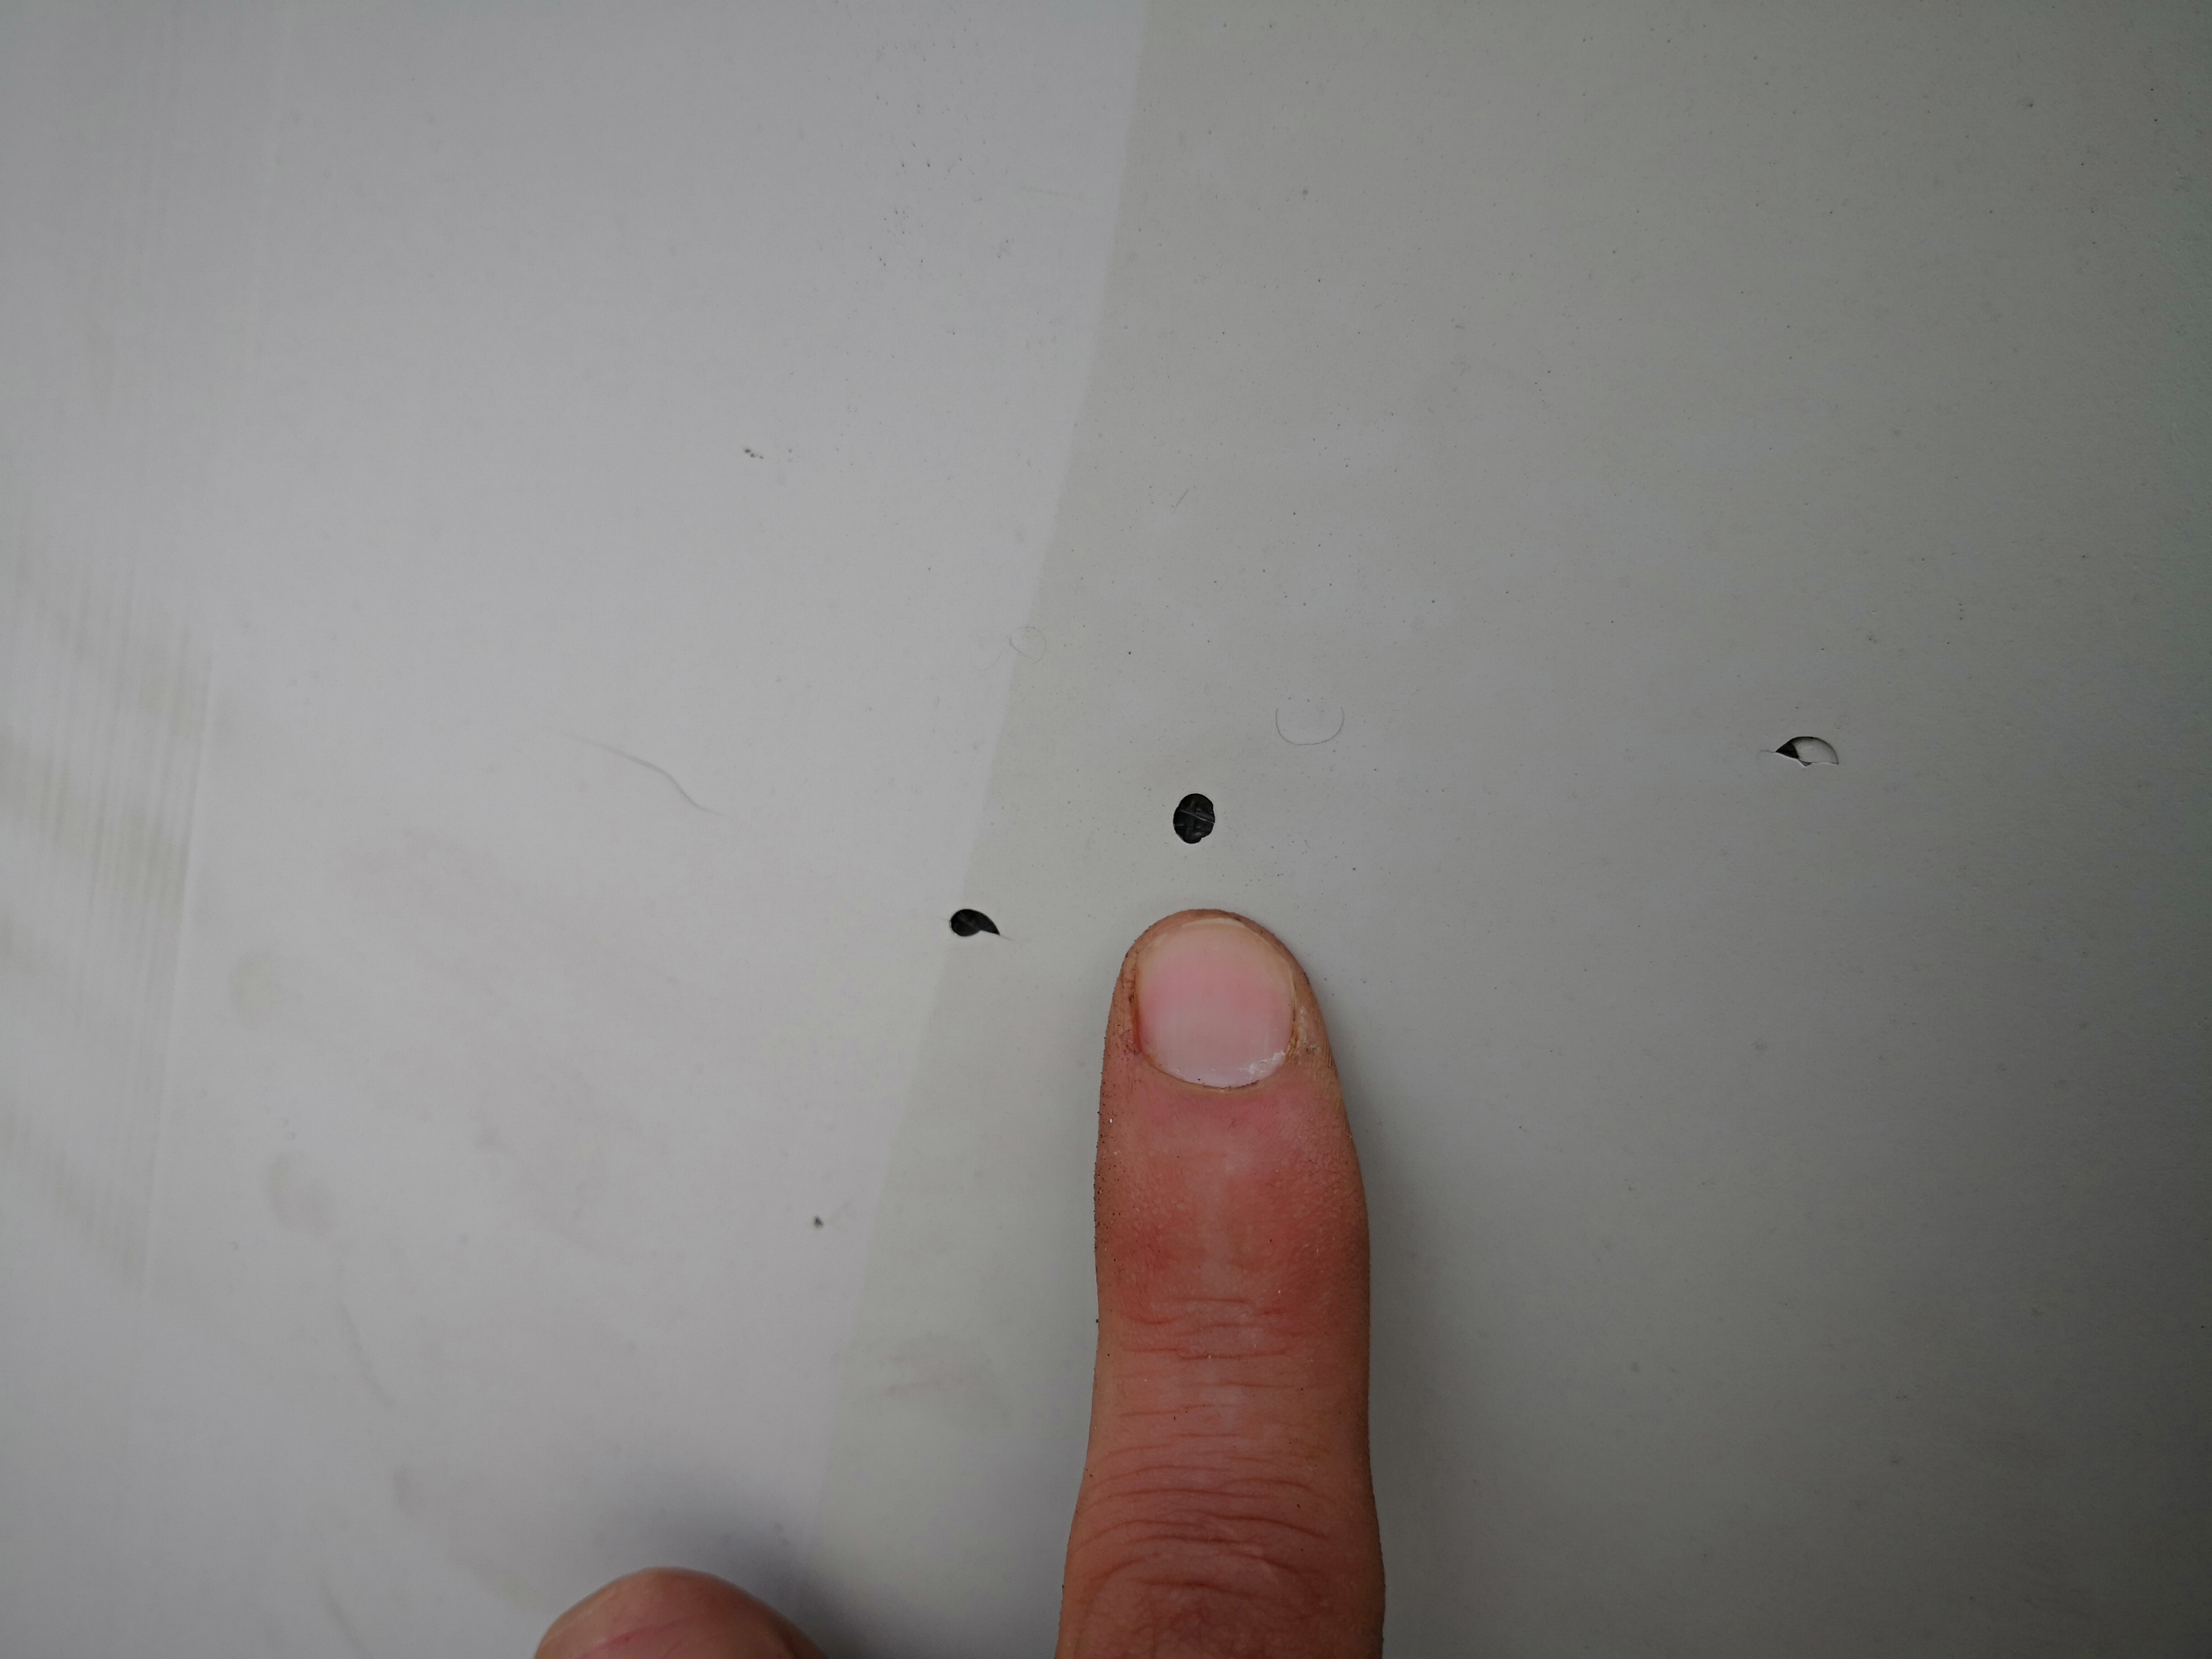SD: (1752, 721, 1890, 819), (1266, 688, 1364, 755), (1162, 779, 1240, 856), (923, 897, 1007, 951)
